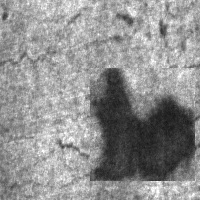crazing: (9, 98, 200, 187), (85, 8, 200, 88), (1, 12, 137, 67)
patches: (90, 68, 195, 181)
